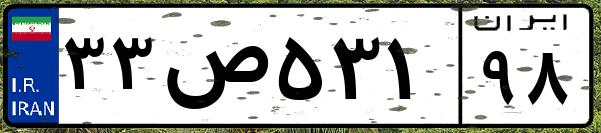1: (385, 28, 445, 110)
3: (330, 28, 385, 110), (57, 26, 110, 100), (110, 28, 158, 98)
5: (270, 28, 330, 110)
8: (525, 38, 570, 115)
9: (475, 38, 525, 113)
ص: (158, 20, 270, 120)
